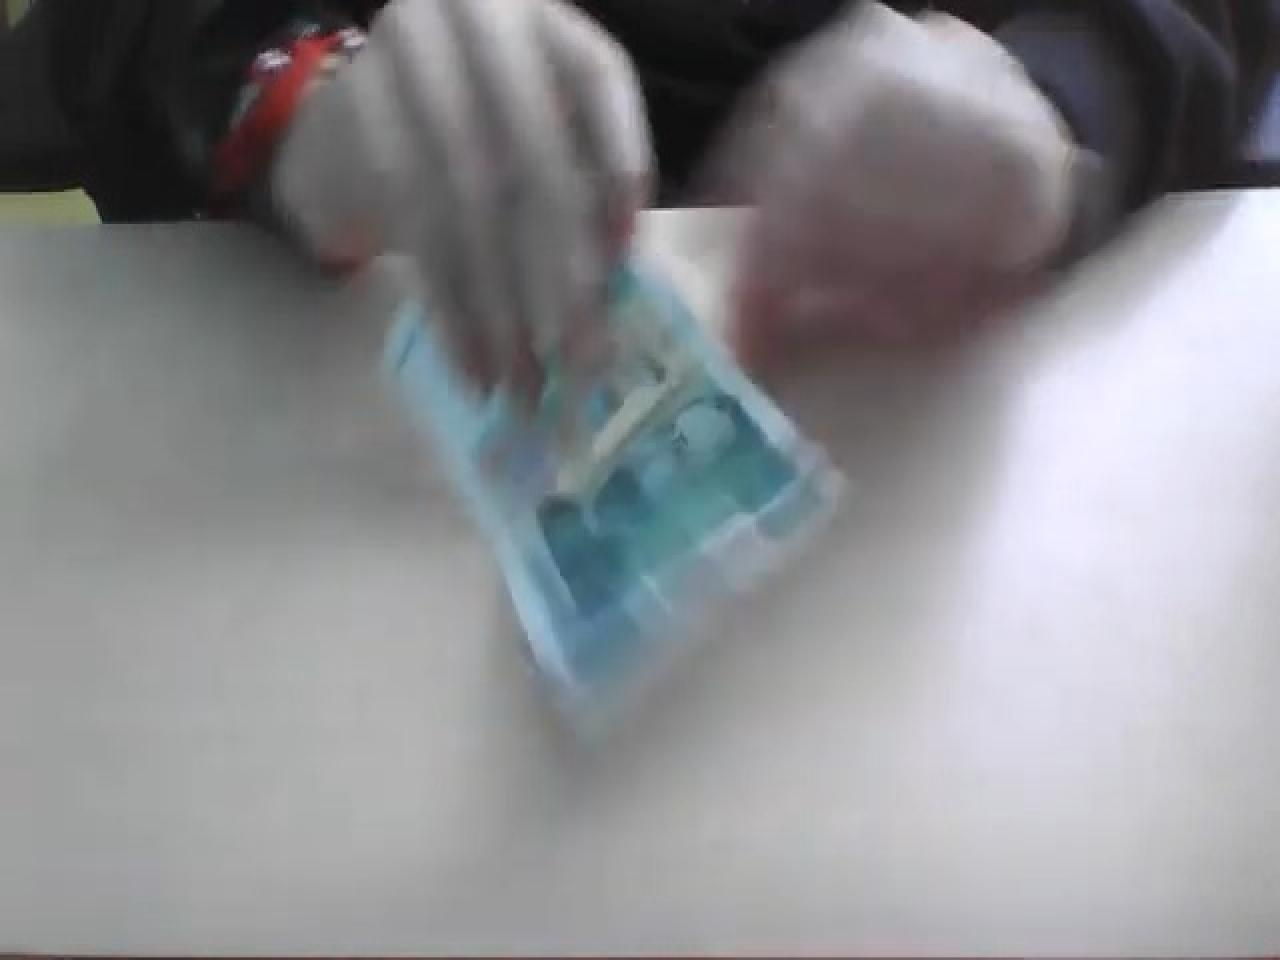100leva: (384, 245, 850, 741)
